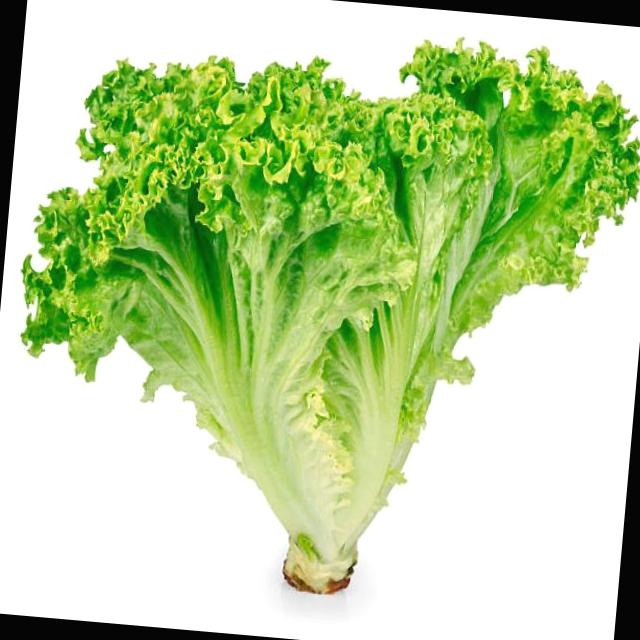Lettuce-Ready-to-Harvest: (22, 43, 638, 592)
